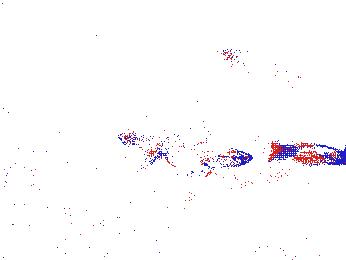redtail glassfish: (216, 45, 309, 97), (144, 141, 256, 176), (116, 127, 220, 156), (270, 135, 346, 172)
